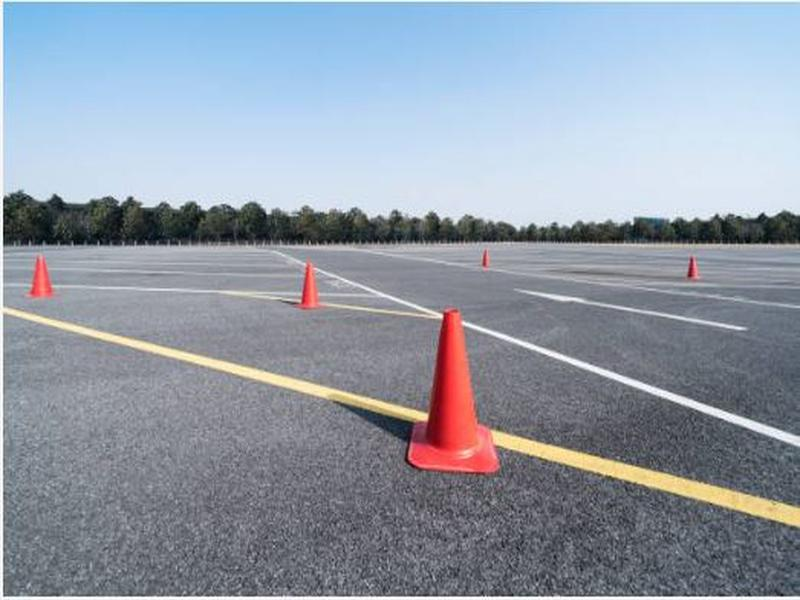Cone: (406, 309, 502, 474), (293, 260, 328, 309), (25, 254, 57, 298), (685, 255, 702, 281), (481, 249, 491, 268)
